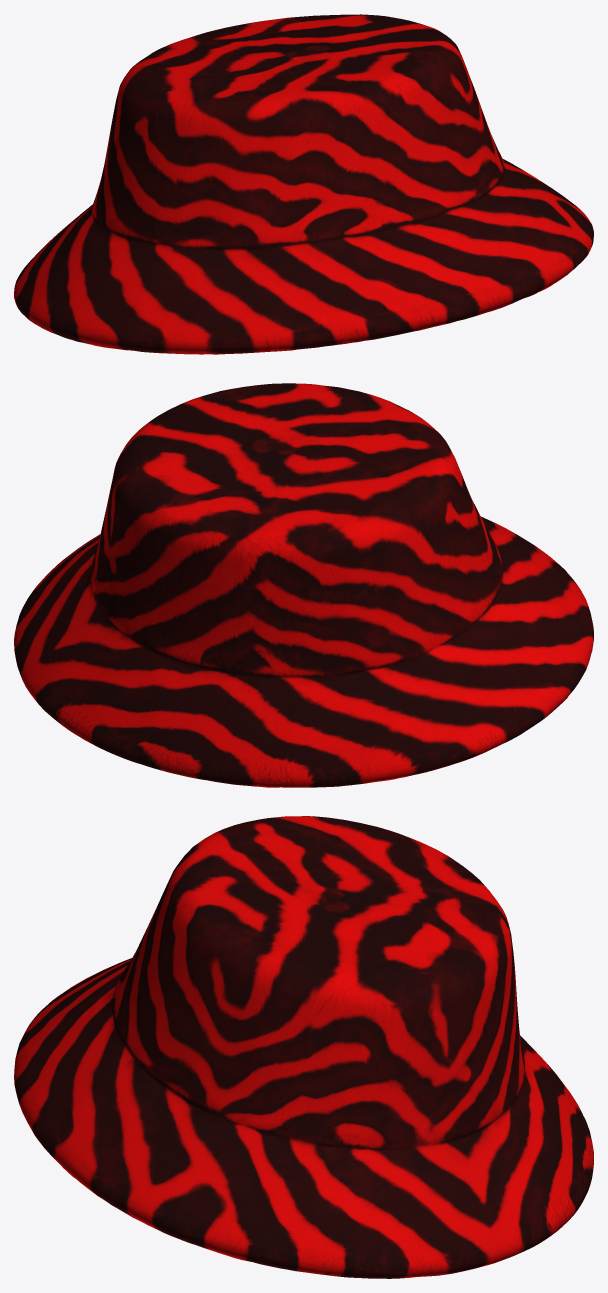
Rendered from Fuzzy-Bucket-Stealth-Red.glb.
3 views of the same model, one above another, from view 1: azimuth 30°, elevation 25°; view 2: azimuth 150°, elevation 25°; view 3: azimuth 270°, elevation 25° (orthographic). The views are drawn at different scales.
Visible parts, largest first — view 1: Fuzzy-Bucket-Stealth-Red; view 2: Fuzzy-Bucket-Stealth-Red; view 3: Fuzzy-Bucket-Stealth-Red.
Boxes of the visible parts, x1,y1,x2,y2 form: Fuzzy-Bucket-Stealth-Red: (14, 14, 593, 354); Fuzzy-Bucket-Stealth-Red: (14, 383, 593, 787); Fuzzy-Bucket-Stealth-Red: (14, 816, 593, 1278).
Bounding box in the file's own units: 0.7047 × 0.336 × 0.5977.
1 material, 1 textured.
